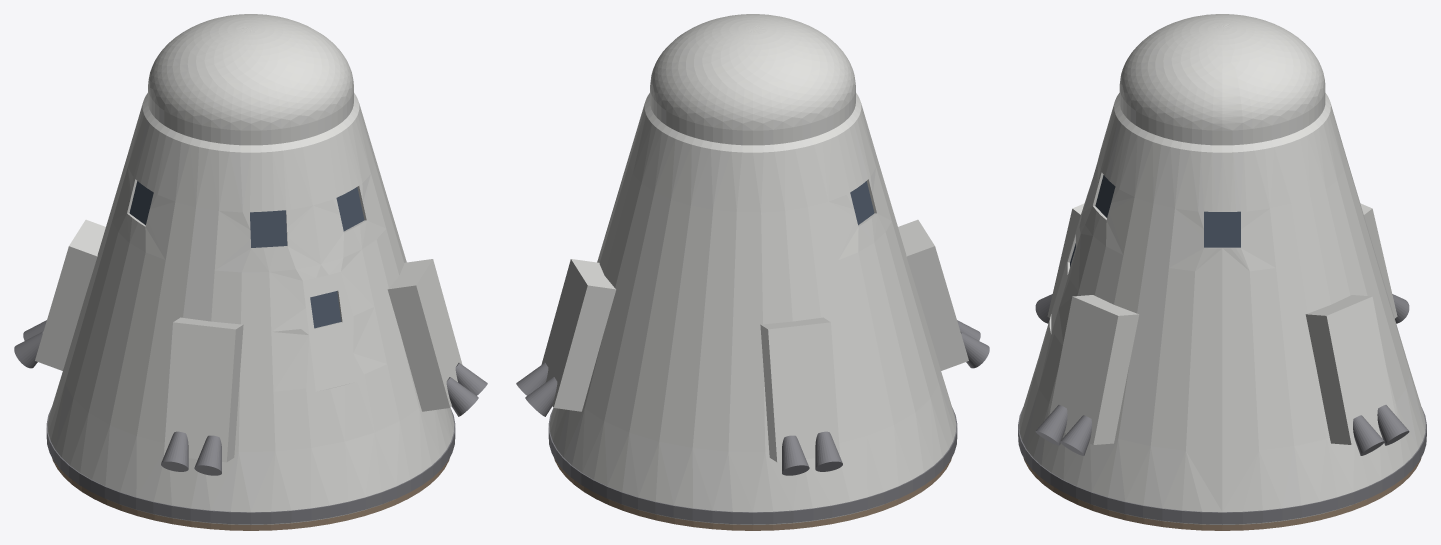
The model's file is cmd05_dragon_capsule.glb.
The picture shows the model from 3 angles, left to right: view 1: azimuth 30°, elevation 25°; view 2: azimuth 150°, elevation 25°; view 3: azimuth 270°, elevation 25°; orthographic projection.
Visible parts, largest first — view 1: pressure_hull, nosecone, superdraco_pods, trunk_band, superdraco_nozzles, windows, heat_shield; view 2: pressure_hull, nosecone, superdraco_pods, trunk_band, superdraco_nozzles, heat_shield, windows; view 3: pressure_hull, nosecone, superdraco_pods, trunk_band, superdraco_nozzles, heat_shield, windows.
Part boxes in pixels (bbox=[...]): pressure_hull: bbox=[47, 93, 454, 524]; nosecone: bbox=[148, 14, 353, 145]; superdraco_pods: bbox=[35, 219, 462, 462]; trunk_band: bbox=[46, 408, 455, 524]; superdraco_nozzles: bbox=[14, 320, 487, 475]; windows: bbox=[129, 181, 364, 328]; heat_shield: bbox=[52, 458, 449, 530]; pressure_hull: bbox=[549, 93, 956, 524]; nosecone: bbox=[650, 14, 855, 145]; superdraco_pods: bbox=[541, 219, 968, 462]; trunk_band: bbox=[548, 408, 957, 524]; superdraco_nozzles: bbox=[516, 320, 989, 475]; heat_shield: bbox=[554, 458, 951, 530]; windows: bbox=[850, 181, 874, 225]; pressure_hull: bbox=[1019, 93, 1425, 524]; nosecone: bbox=[1119, 14, 1325, 145]; superdraco_pods: bbox=[1047, 203, 1397, 444]; trunk_band: bbox=[1018, 407, 1426, 524]; superdraco_nozzles: bbox=[1035, 294, 1409, 455]; heat_shield: bbox=[1023, 458, 1421, 530]; windows: bbox=[1070, 175, 1240, 266].
Bounding box in the file's own units: 3.77 × 4.59 × 3.77.
